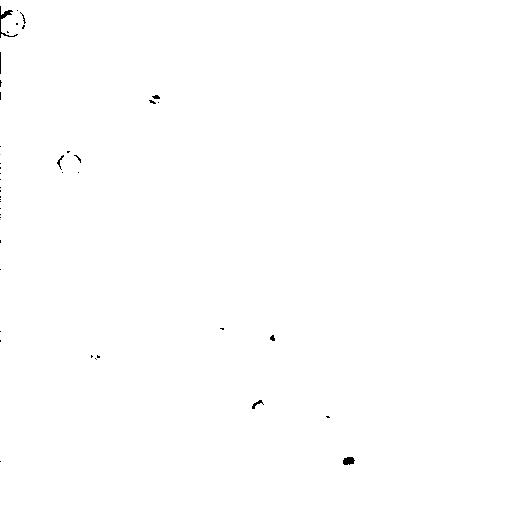micro-algae: (348, 196, 433, 285), (11, 247, 72, 312), (176, 85, 237, 146), (60, 344, 122, 403), (12, 394, 54, 443), (329, 442, 365, 480), (260, 316, 292, 346), (2, 2, 28, 37), (57, 149, 82, 179), (0, 57, 18, 92), (250, 393, 271, 417)
